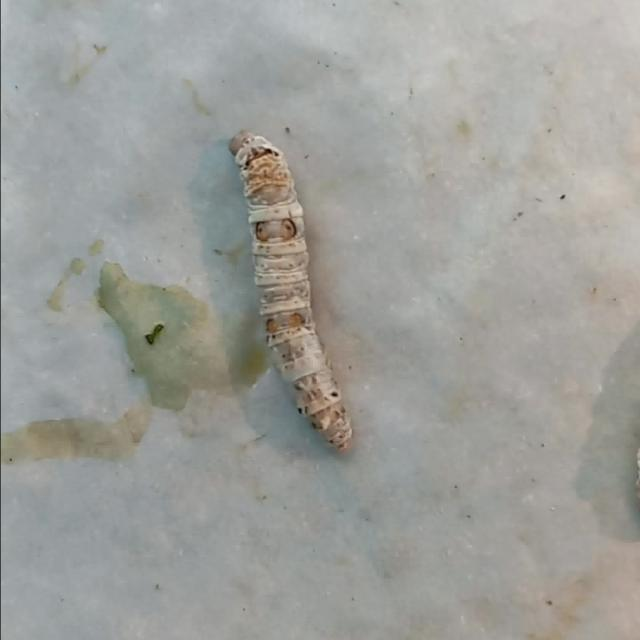Grasserie: (213, 129, 380, 465)
